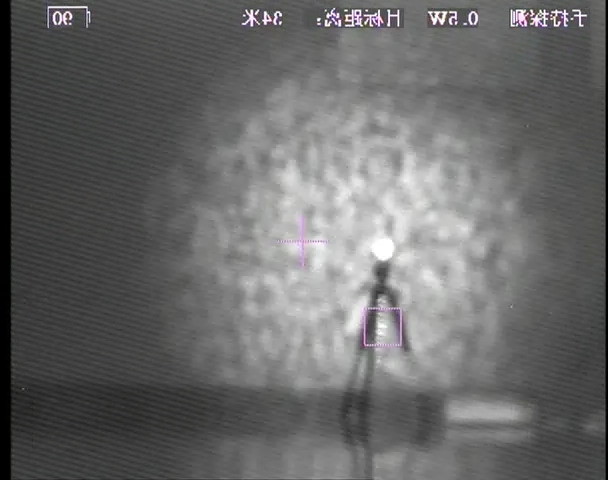my: (368, 235, 396, 263)
